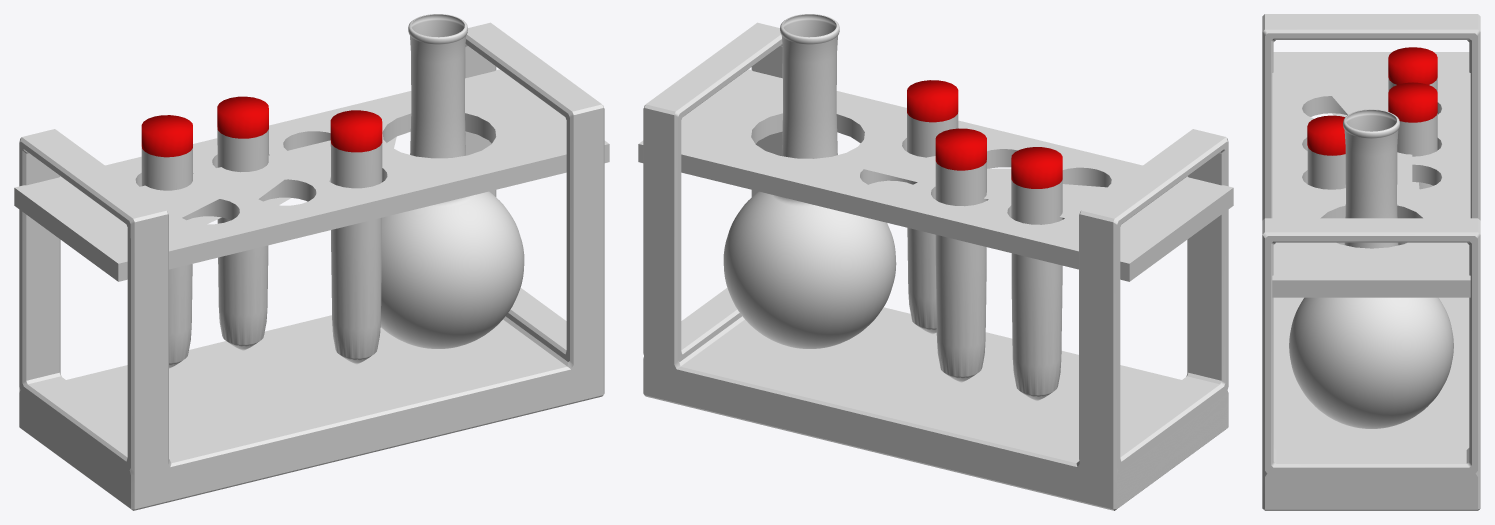
The model's file is LabTech.fbx.
The picture shows the model from 3 angles, left to right: view 1: azimuth 30°, elevation 25°; view 2: azimuth 150°, elevation 25°; view 3: azimuth 270°, elevation 25°; orthographic projection. The views are drawn at different scales.
Visible parts, largest first — view 1: LabTech; view 2: LabTech; view 3: LabTech.
Part boxes in pixels (x1=…): LabTech: x1=14, y1=14, x2=609, y2=510; LabTech: x1=638, y1=14, x2=1233, y2=510; LabTech: x1=1262, y1=14, x2=1480, y2=510.
Size of the model in its own units: 0.4746 by 0.329 by 0.1916.
